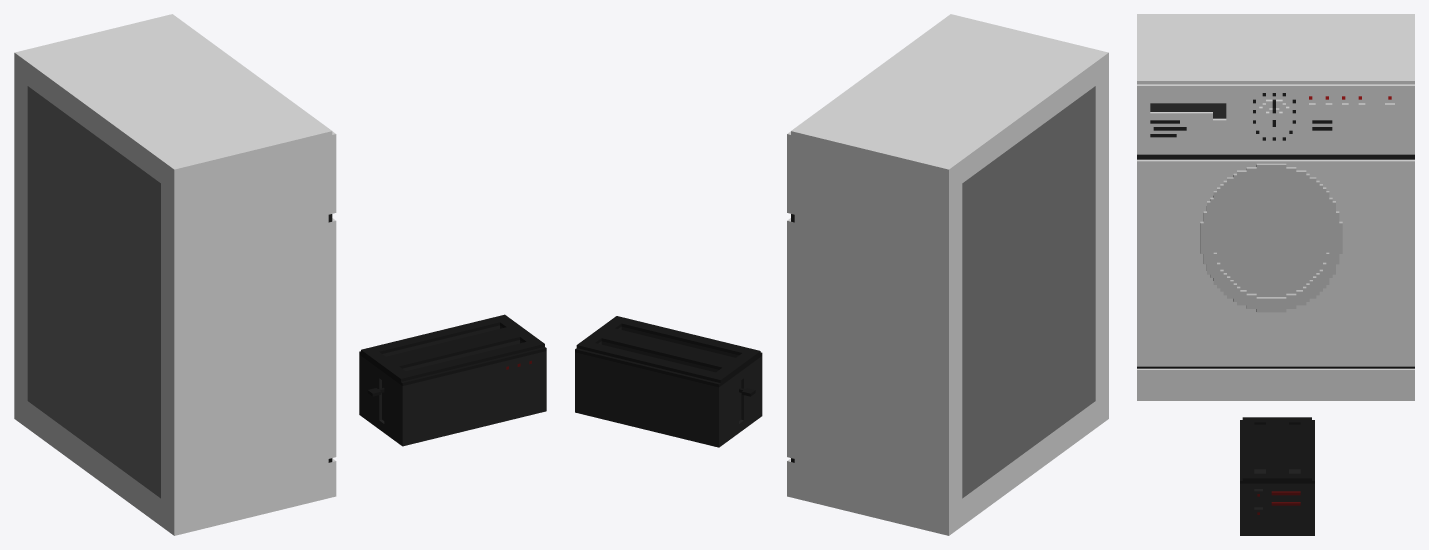
File: washing.fbx
3 renders of one model, left to right at view 1: azimuth 30°, elevation 25°; view 2: azimuth 150°, elevation 25°; view 3: azimuth 270°, elevation 25°, orthographic. The views are drawn at different scales.
Parts seen in each view (by area): view 1: washing machine-0, toaster; view 2: washing machine-0, toaster; view 3: washing machine-0, washing machine-1, toaster.
Boxes of the visible parts, bbox=[...] form: washing machine-0: bbox=[14, 14, 336, 535]; toaster: bbox=[359, 314, 546, 446]; washing machine-0: bbox=[787, 14, 1108, 535]; toaster: bbox=[575, 316, 762, 447]; washing machine-0: bbox=[1137, 14, 1414, 400]; washing machine-1: bbox=[1200, 163, 1342, 312]; toaster: bbox=[1240, 417, 1314, 535].
Size of the model in its own units: 154 by 131 by 97.33.
